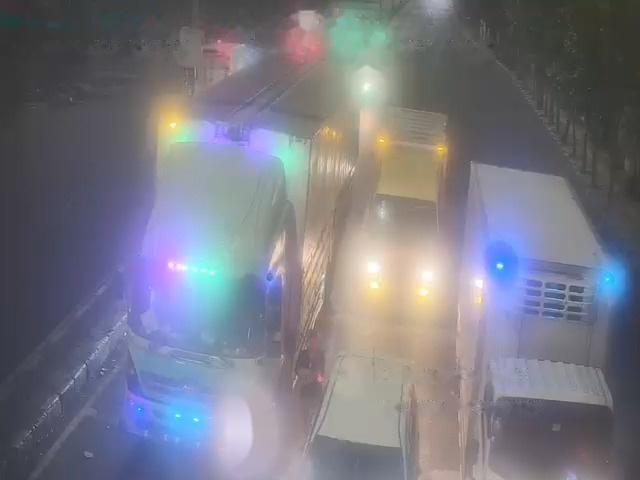Mobil: (296, 347, 426, 477)
Truk: (134, 117, 342, 454), (471, 160, 618, 476), (366, 108, 448, 304)
